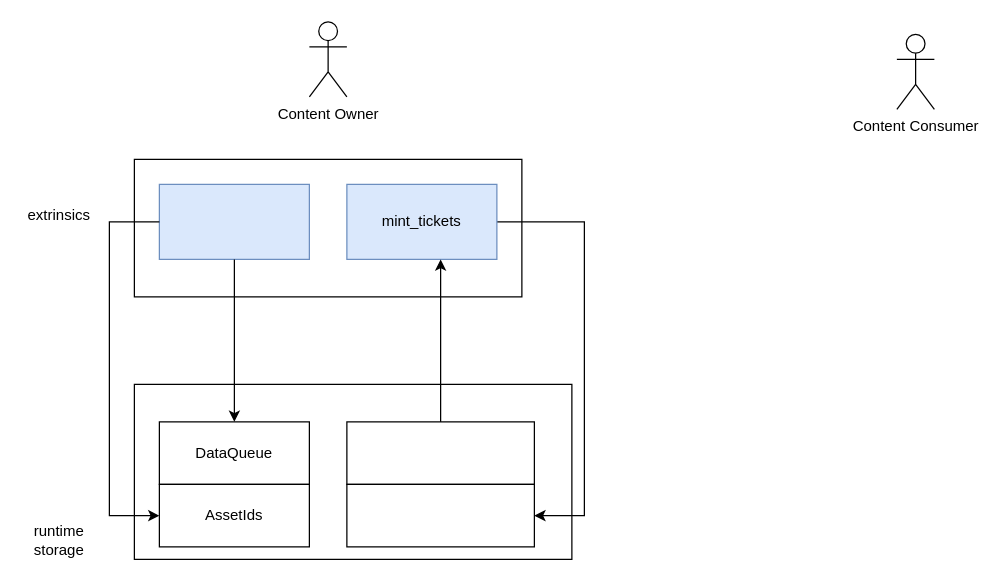
The diagram is 1000 pixels wide and 581 high, and some of its shapes have lost their labels. Here are the shapes that lost their labels. From the top down, the box of each, then its label:
(158, 183, 309, 259): create_storage_asset
(346, 421, 534, 484): AssetClassOwnership
(346, 483, 534, 547): AssetAccess
